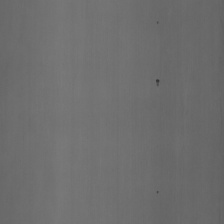inclusion: (155, 75, 160, 88), (155, 19, 159, 26), (155, 188, 159, 195)
